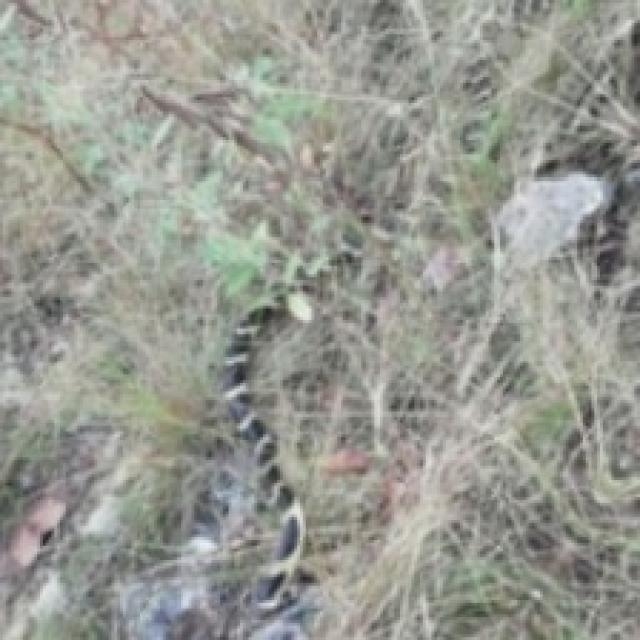king cobra: (220, 311, 303, 609)
